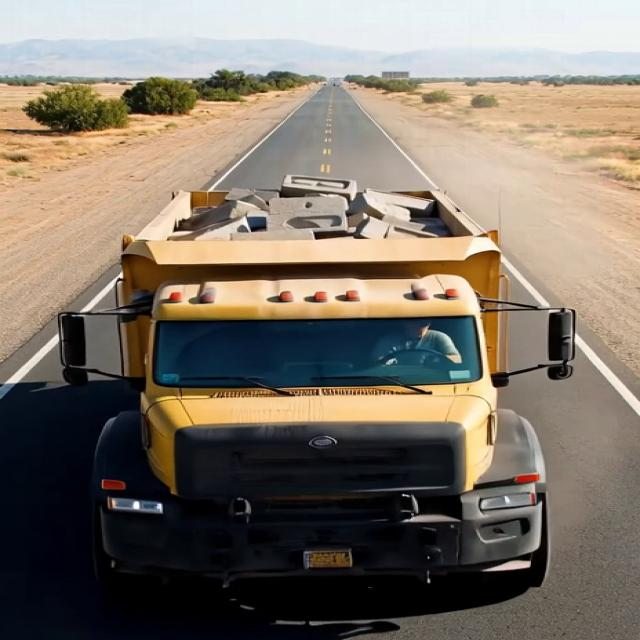trailer: (129, 174, 490, 290)
truck: (0, 168, 590, 602)
